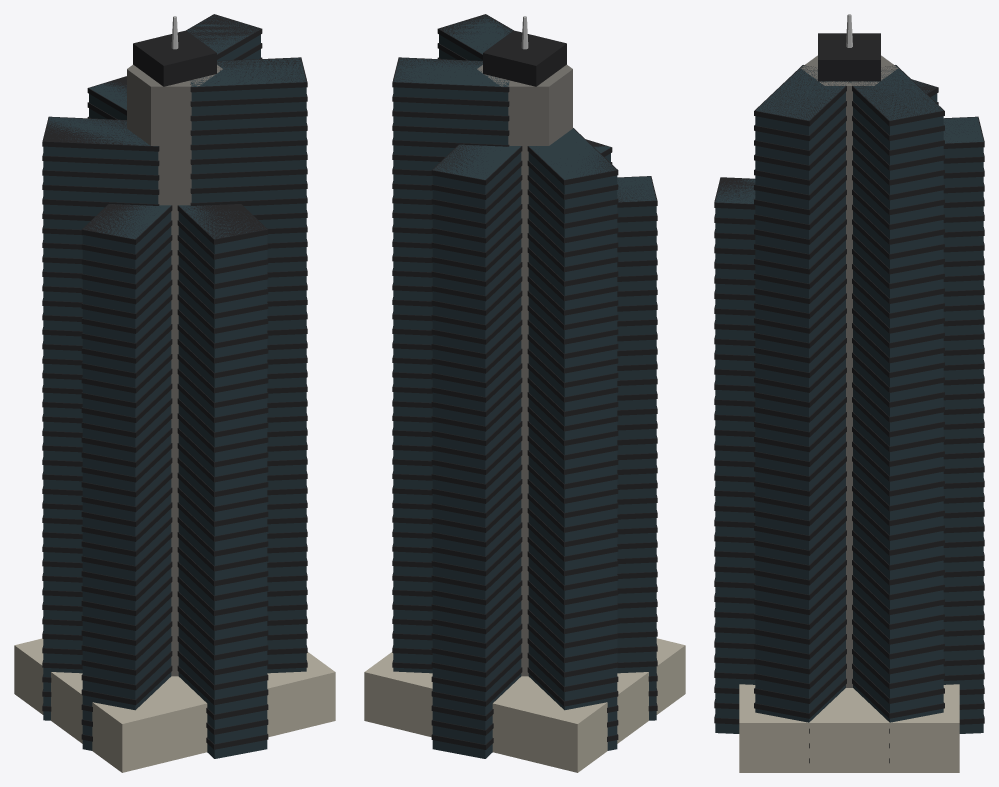
File: tower_42.glb
The picture shows the model from 3 angles, left to right: view 1: azimuth 30°, elevation 25°; view 2: azimuth 150°, elevation 25°; view 3: azimuth 270°, elevation 25°; orthographic projection. The views are drawn at different scales.
Parts seen in each view (by area): view 1: tower_42; view 2: tower_42; view 3: tower_42.
Boxes of the visible parts, bbox=[...] form: tower_42: bbox=[14, 14, 335, 772]; tower_42: bbox=[364, 14, 685, 772]; tower_42: bbox=[714, 14, 984, 772].
Bounding box in the file's own units: 65.94 × 198 × 68.87.
